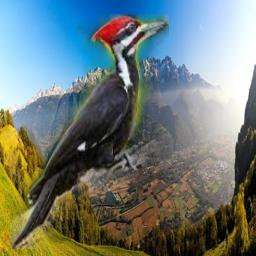Woodpecker: (10, 14, 169, 249)
